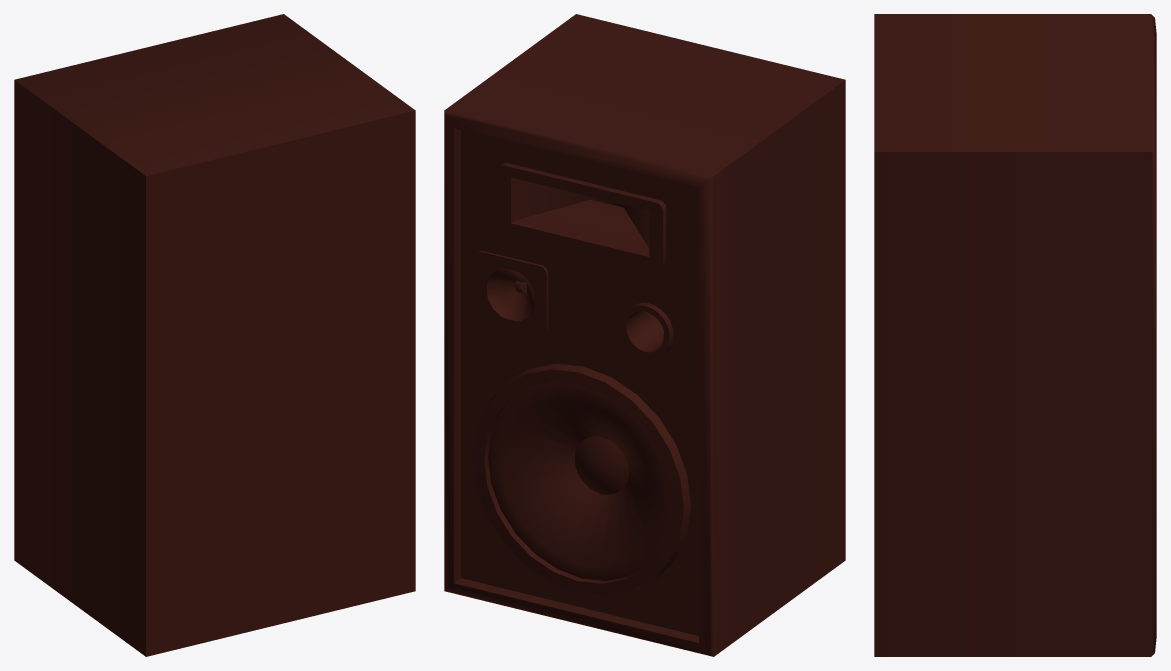
Rendered from Speaker_wall.fbx.
The picture shows the model from 3 angles, left to right: view 1: azimuth 30°, elevation 25°; view 2: azimuth 150°, elevation 25°; view 3: azimuth 270°, elevation 25°; orthographic projection. The views are drawn at different scales.
Parts seen in each view (by area): view 1: Speaker_u; view 2: Speaker_u; view 3: Speaker_u.
Boxes of the visible parts, box(x1,y1,x2,y2) form: Speaker_u: box(14, 14, 415, 656); Speaker_u: box(444, 14, 845, 656); Speaker_u: box(874, 14, 1156, 656).
Size of the model in its own units: 5866 by 9998 by 5066.
